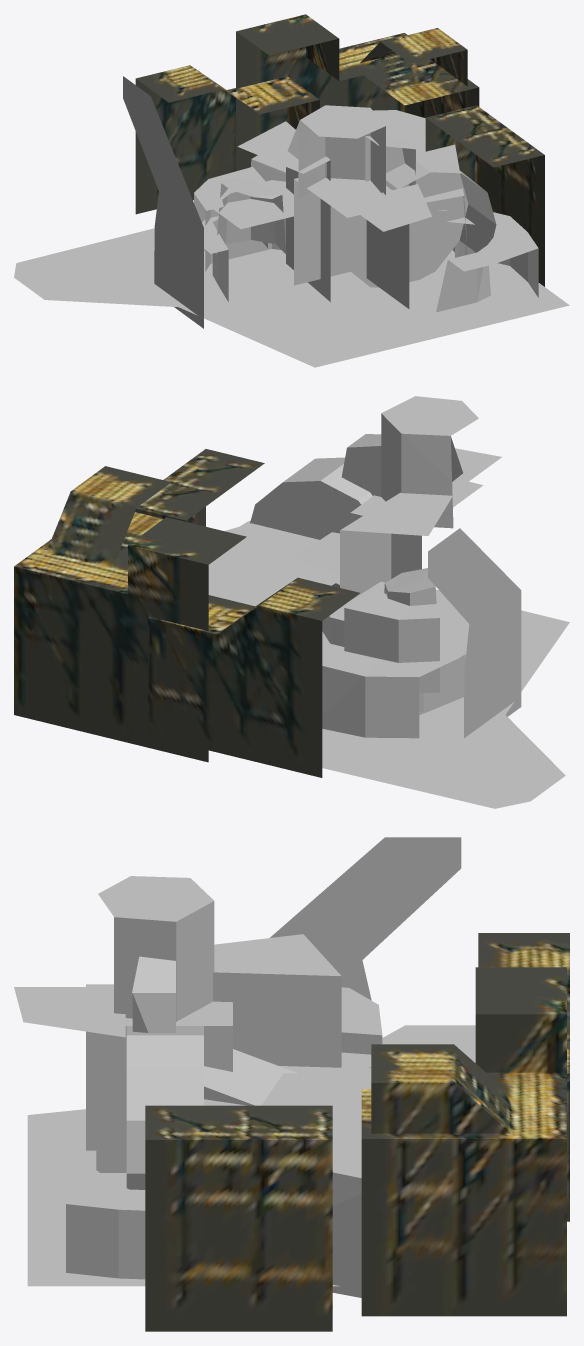
Rendered from T_Silvermine_01.fbx.
The picture shows the model from 3 angles, top to bottom: view 1: azimuth 30°, elevation 25°; view 2: azimuth 150°, elevation 25°; view 3: azimuth 270°, elevation 25°; orthographic projection. The views are drawn at different scales.
Visible parts, largest first — view 1: T_Silvermine_01_on, T_BuildForm_01, T_BuildForm_03 (1), T_BuildForm_02 (4); view 2: T_Silvermine_01_on, T_BuildForm_01, T_BuildForm_03 (1), T_BuildForm_02 (4); view 3: T_Silvermine_01_on, T_BuildForm_01, T_BuildForm_02 (4), T_BuildForm_03 (1).
Part boxes in pixels (x1,y1,x2,y2): T_Silvermine_01_on: (14,76,569,367); T_BuildForm_01: (236,14,479,171); T_BuildForm_03 (1): (135,65,319,214); T_BuildForm_02 (4): (425,105,544,286); T_Silvermine_01_on: (208,396,569,808); T_BuildForm_01: (14,466,246,762); T_BuildForm_03 (1): (148,577,359,777); T_BuildForm_02 (4): (135,449,264,526); T_Silvermine_01_on: (14,837,475,1297); T_BuildForm_01: (361,967,566,1316); T_BuildForm_02 (4): (145,1105,332,1331); T_BuildForm_03 (1): (478,933,569,1221).
Bounding box in the file's own units: 7.24 × 3.6 × 6.05.
